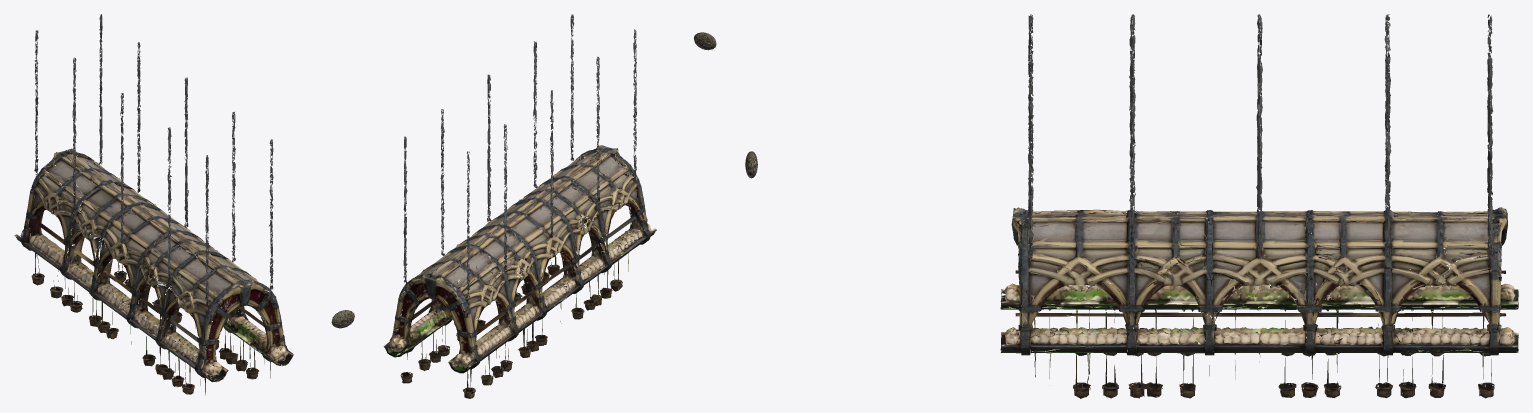
The model's file is tallow_harvest_restored_canopy.glb.
3 renders of one model, left to right at view 1: azimuth 30°, elevation 25°; view 2: azimuth 150°, elevation 25°; view 3: azimuth 270°, elevation 25°, orthographic. The views are drawn at different scales.
Parts seen in each view (by area): view 1: node_0, HB_PULSE_00; view 2: node_0, HB_PULSE_00; view 3: node_0.
Part boxes in pixels (x1,y1,x2,y2): node_0: (14, 14, 293, 394); HB_PULSE_00: (331, 310, 354, 328); node_0: (383, 14, 656, 398); HB_PULSE_00: (694, 32, 716, 50); node_0: (1000, 14, 1518, 398).
Size of the model in its own units: 0.2781 by 0.7458 by 1.53.
Materials: 1 (1 with a texture image).
